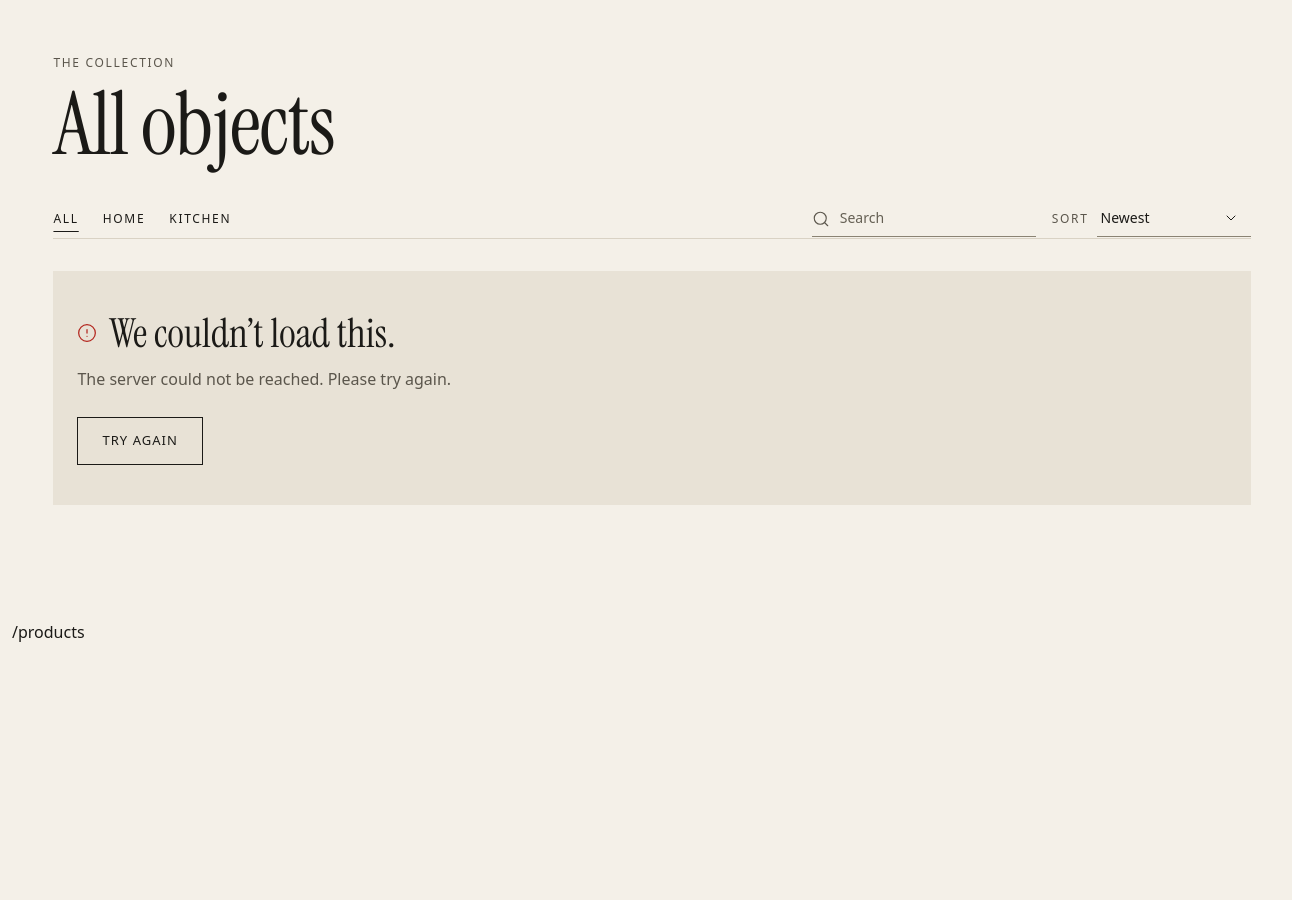
ProductsPage › shows an error with Try again, and recovers when the request succeeds the second time
The image size is (1292, 900).
Expected: the text "The server could not be reached. Please try again." is shown, [77,368,451,390]
What coordinates should you click on to do the following:
click the button "Try again"
I would click on:
 (140, 441)
Its box is [77,417,203,465].
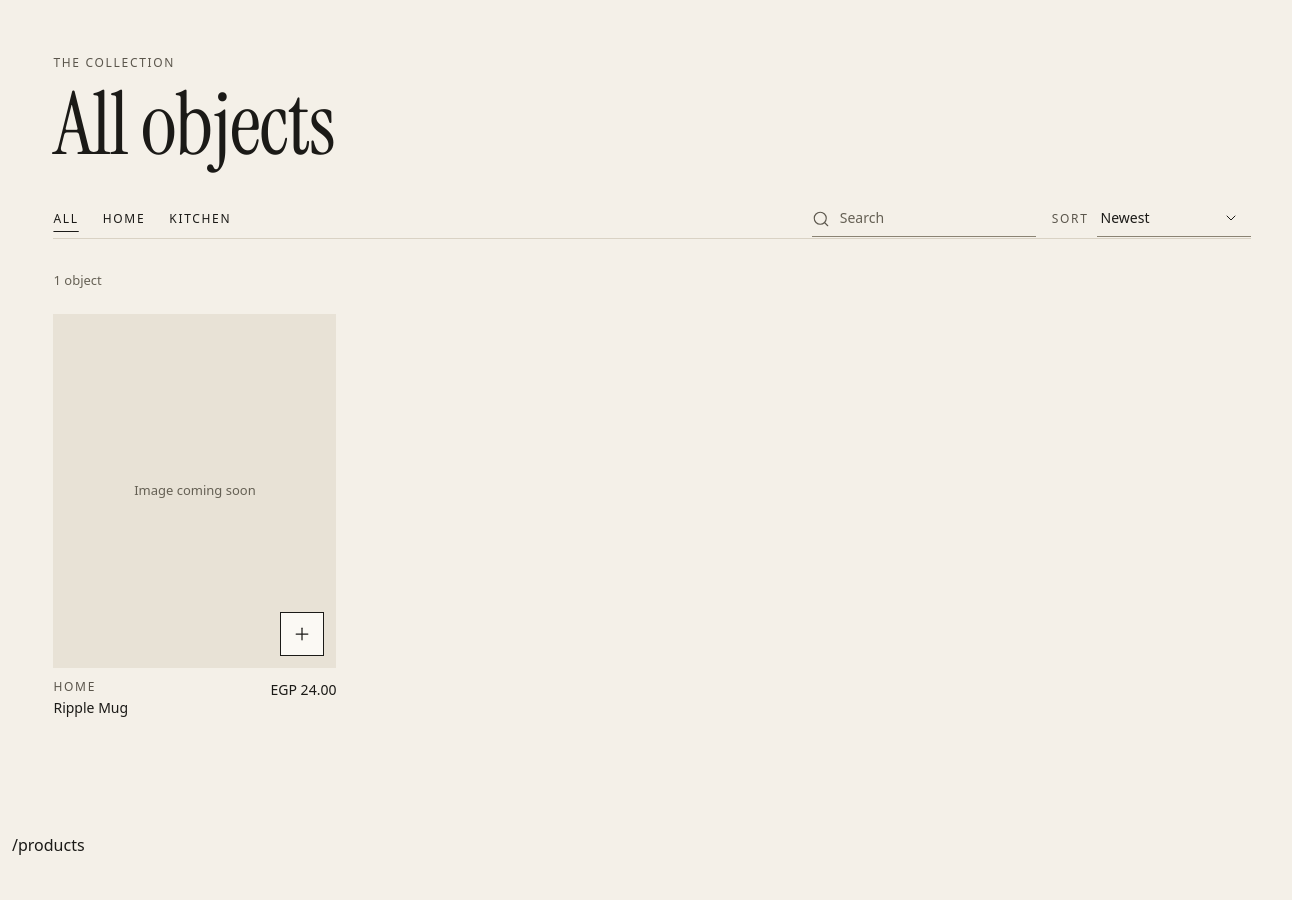
Result: the link "Ripple Mug" is shown at [53,698,128,718]
